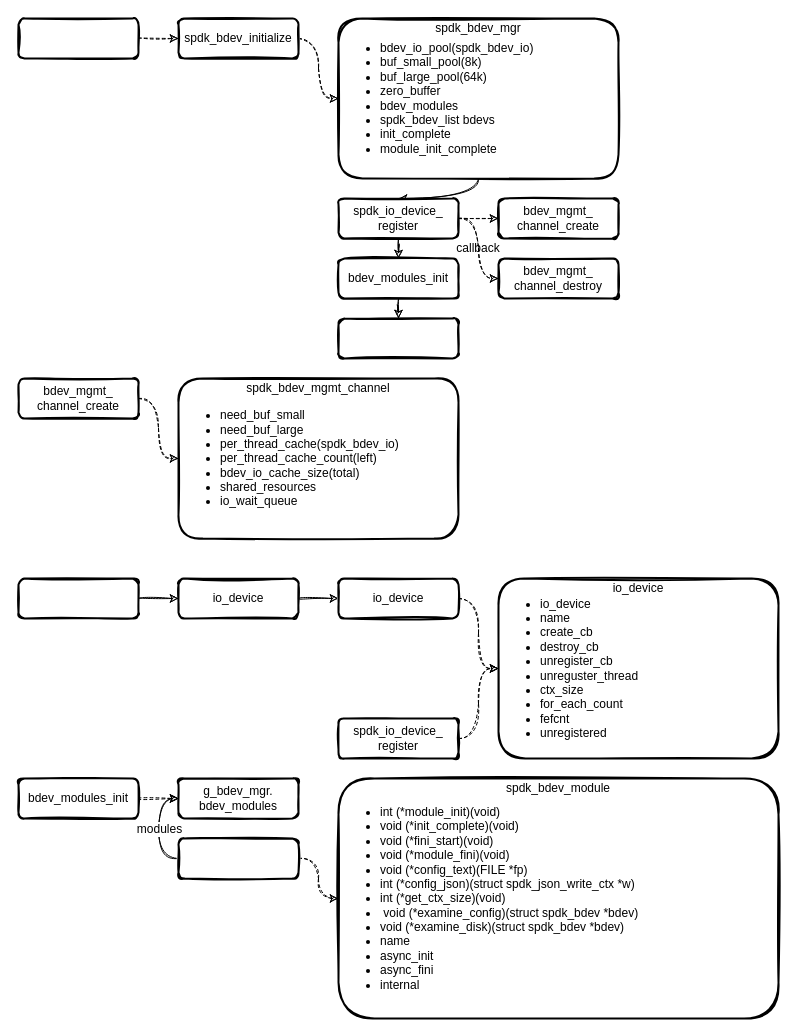
Some shapes in this 796 by 1036 pixel diagram are drawn without their labels. The box of each missing label's shape, as (x1, y1, x2, y2) in pixels:
bdev_module_ action_complete: (337, 317, 459, 359)
bdev_subsystem_ initialize: (17, 17, 139, 59)
g_io_devices (list): (17, 577, 139, 619)
module_init: (177, 837, 299, 879)
